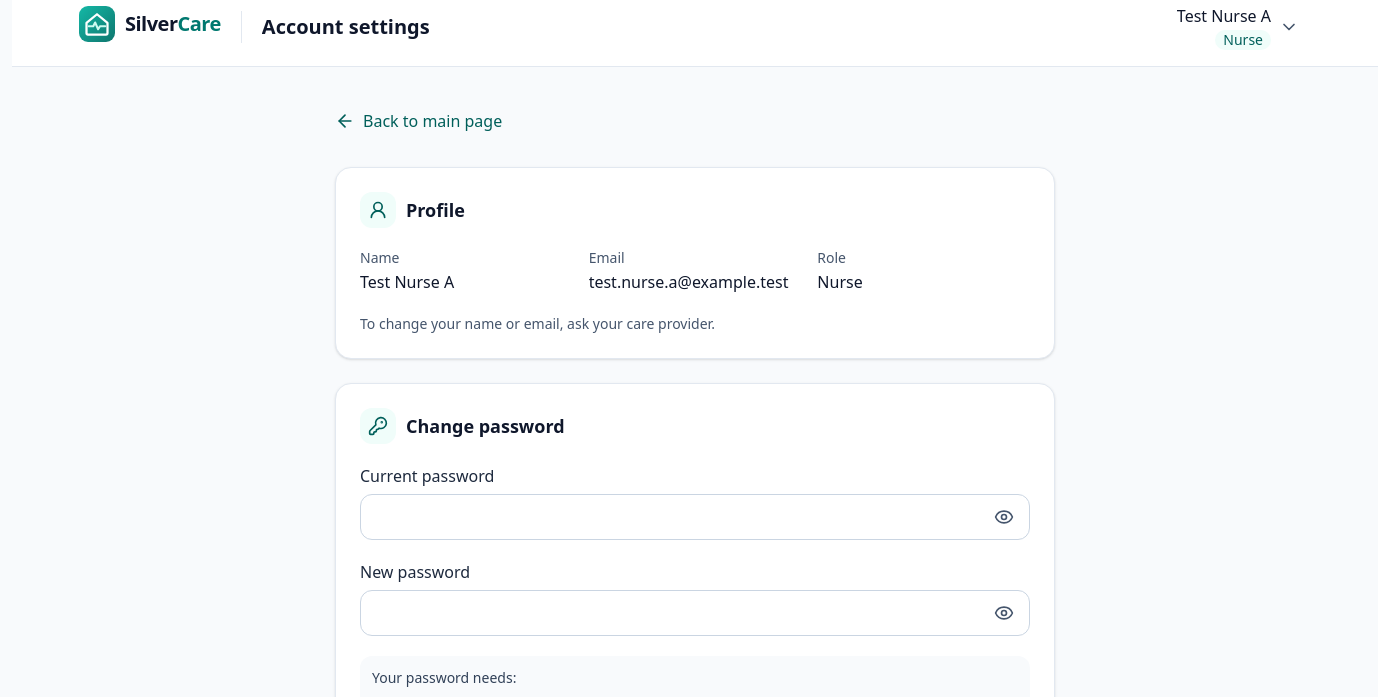
Test: change password › changes the password with current + new and shows a success notice
Type "Test-Passw0rd!2026" into the password field labelled "Current password".
click(695, 517); type("Test-Passw0rd!2026")  # box left=360, top=494, right=1030, bottom=540
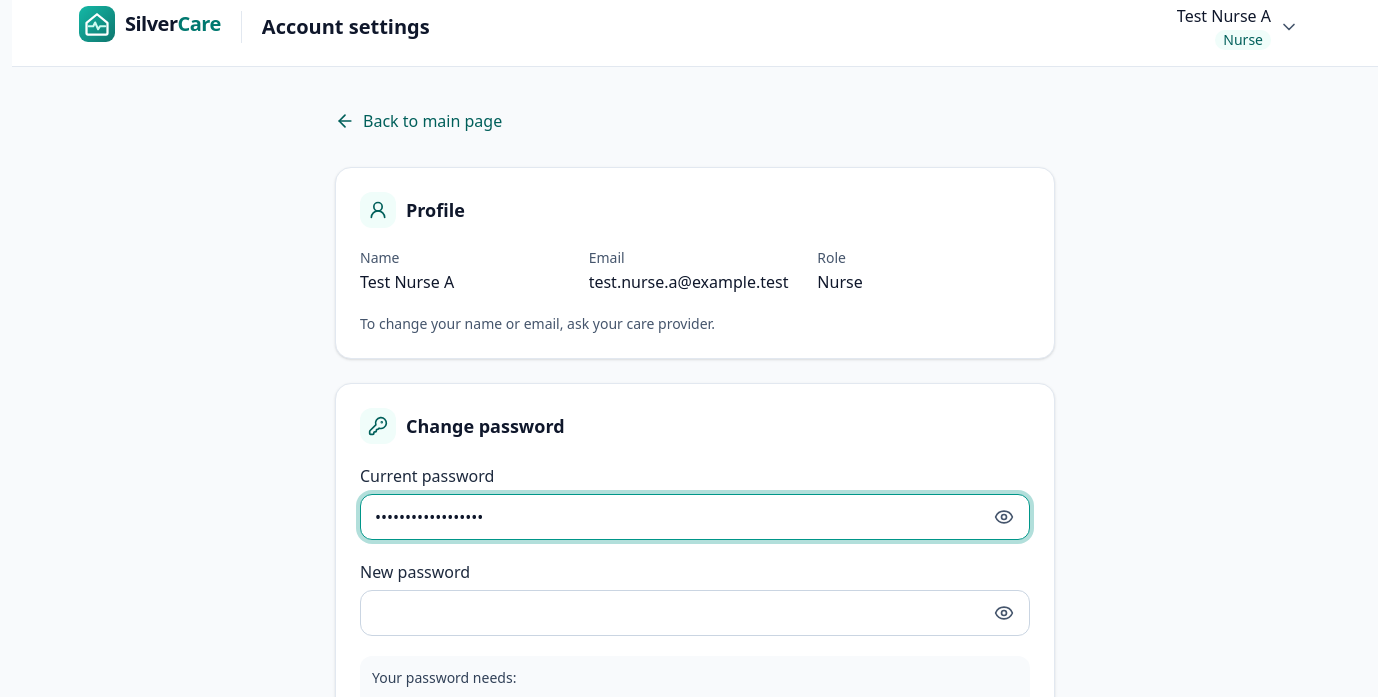
Type "Another#Test9Pass" into the password field labelled "New password".
click(695, 613); type("Another#Test9Pass")  # box left=360, top=590, right=1030, bottom=636
(page scrolled)
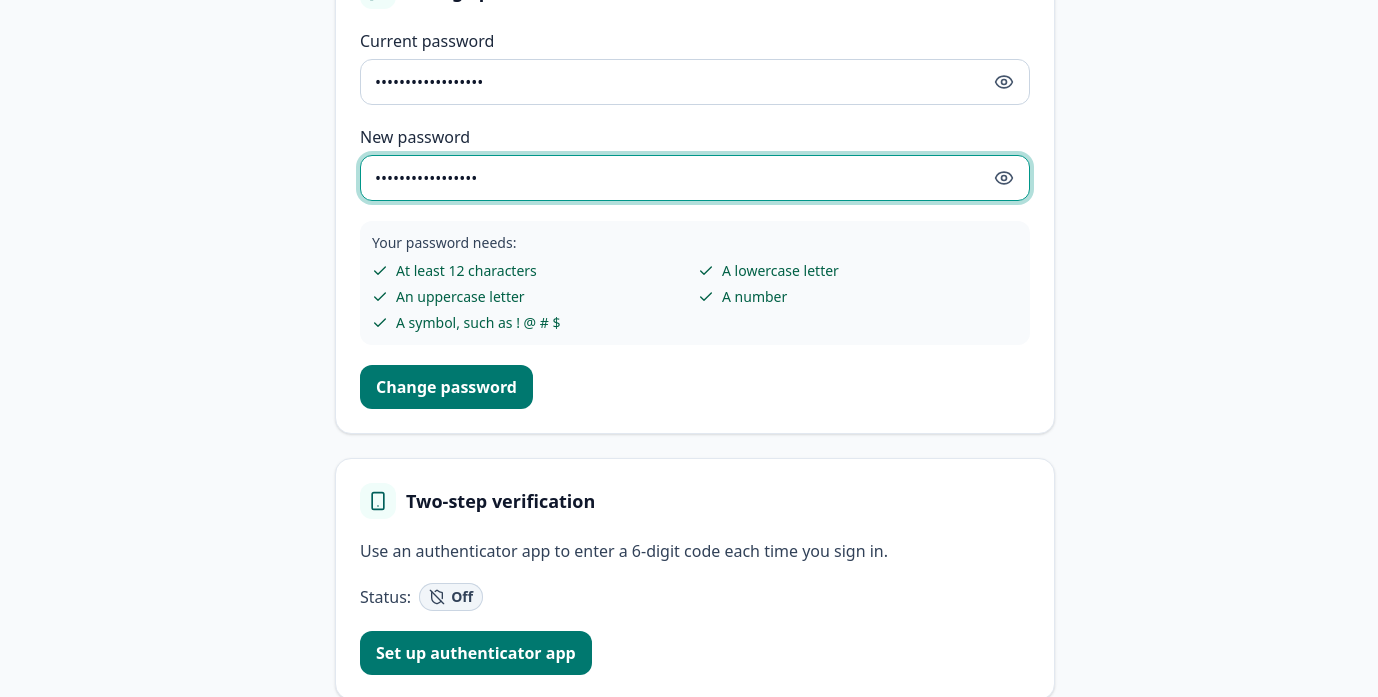
Click the button "Change password".
click(446, 387)  # box left=360, top=365, right=533, bottom=409
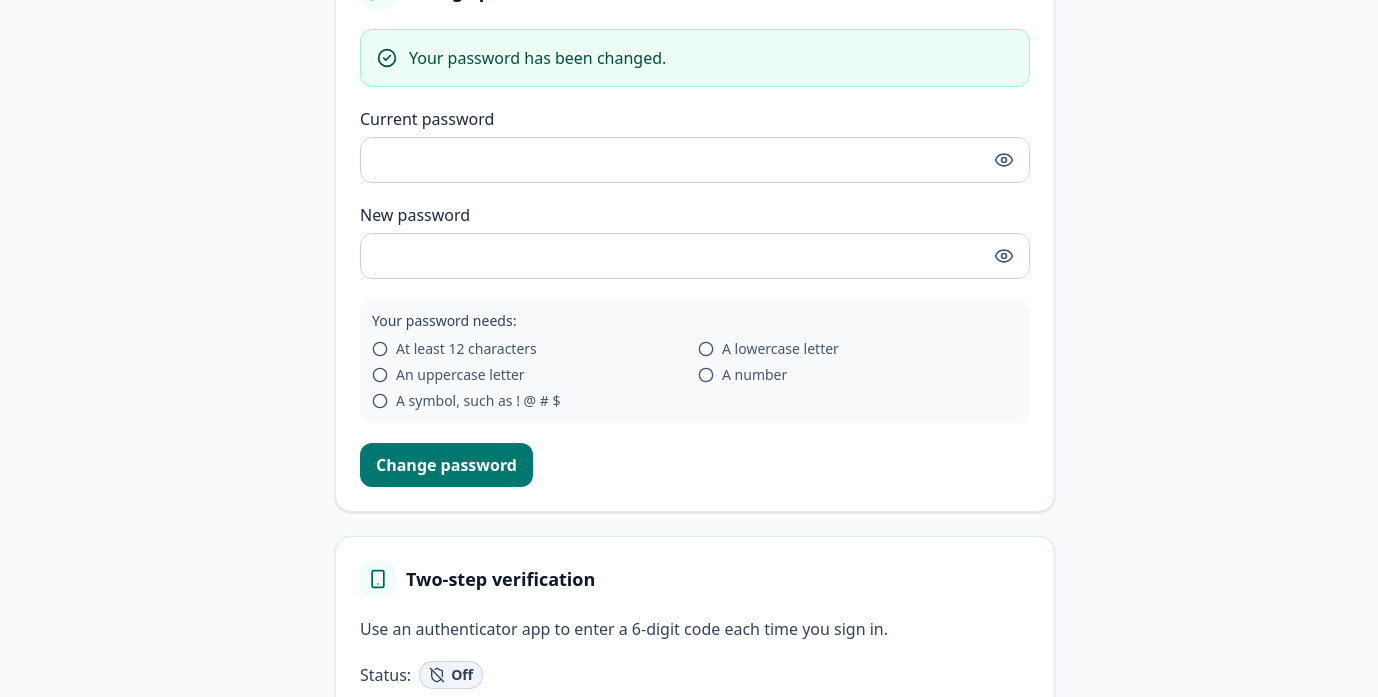
Check: the message reads "Your password has been changed.", box left=409, top=47, right=666, bottom=69
Check: the password field labelled "Current password" is empty, box left=360, top=137, right=1030, bottom=183
Check: the password field labelled "New password" is empty, box left=360, top=233, right=1030, bottom=279
